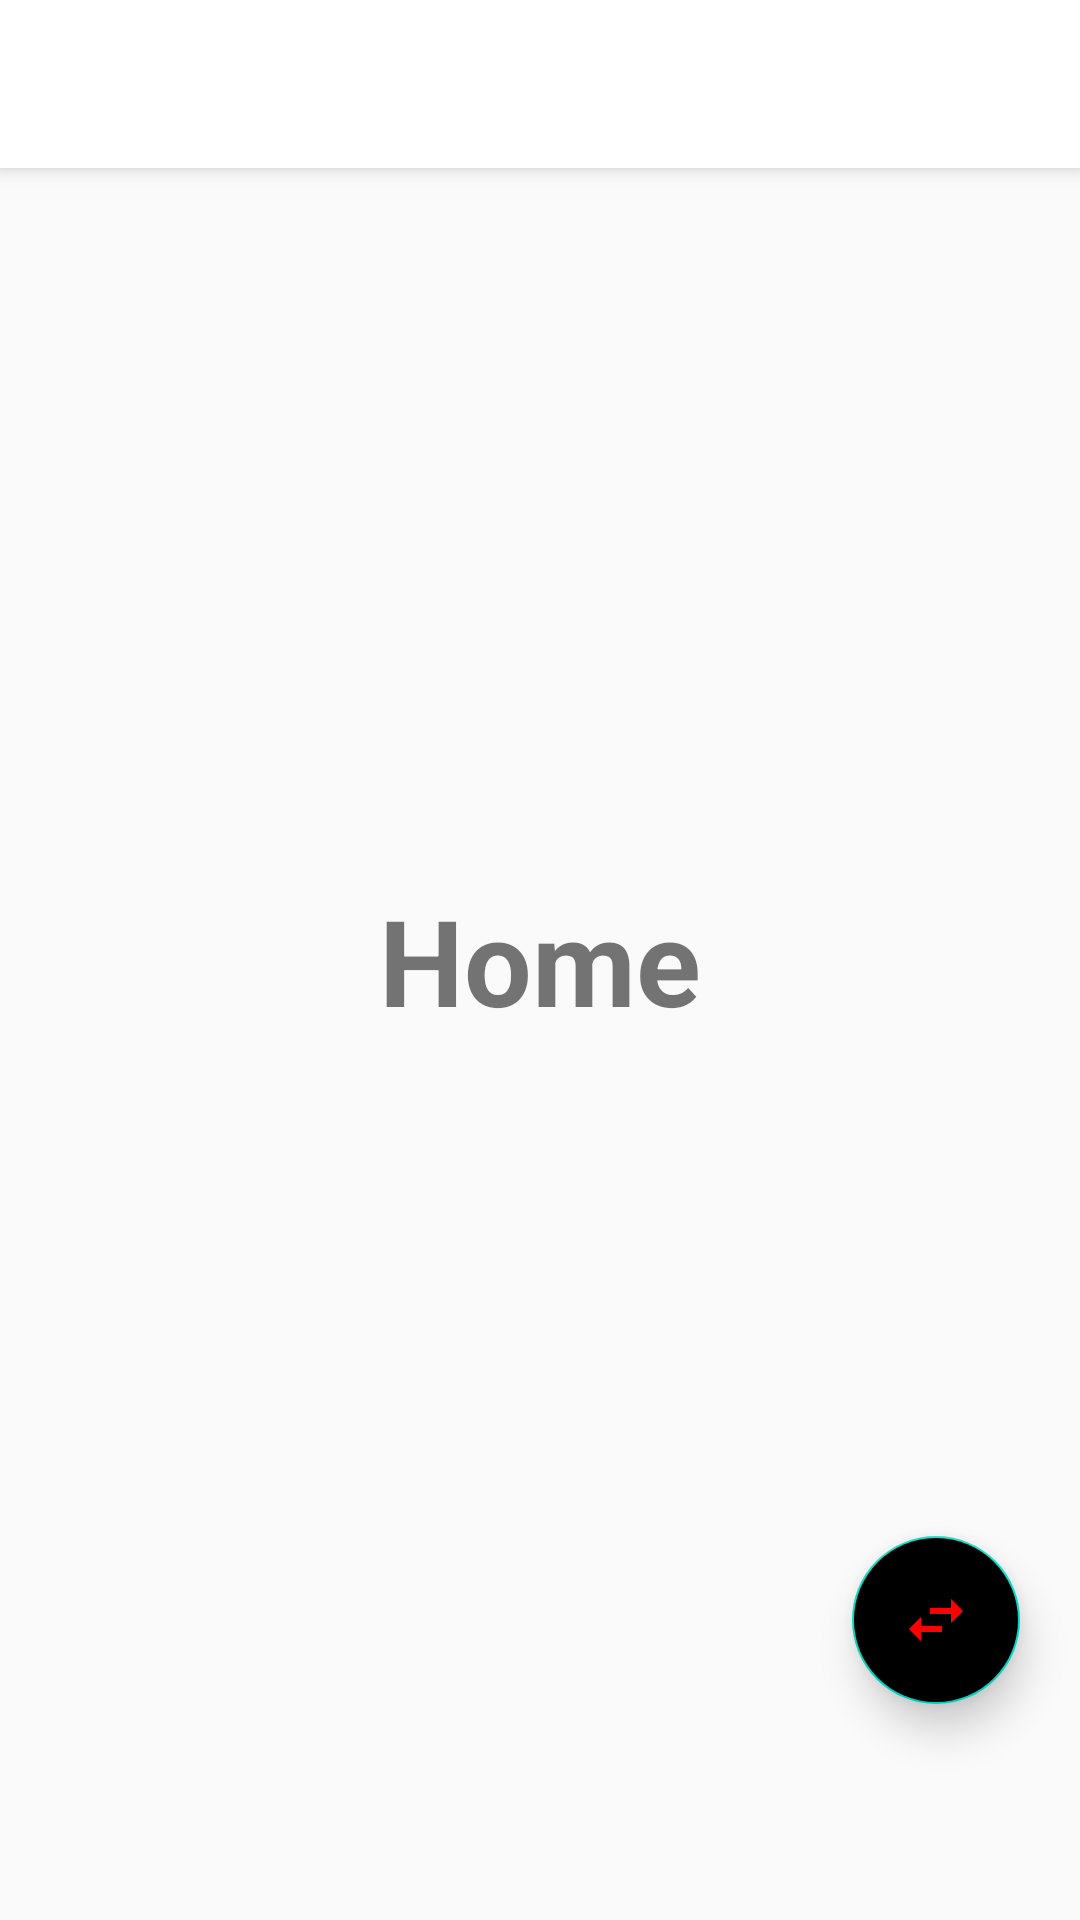

Where to tap for icons on this 1080 × 1920 app screen, as [x,y]:
swap horiz: [936,1620]
